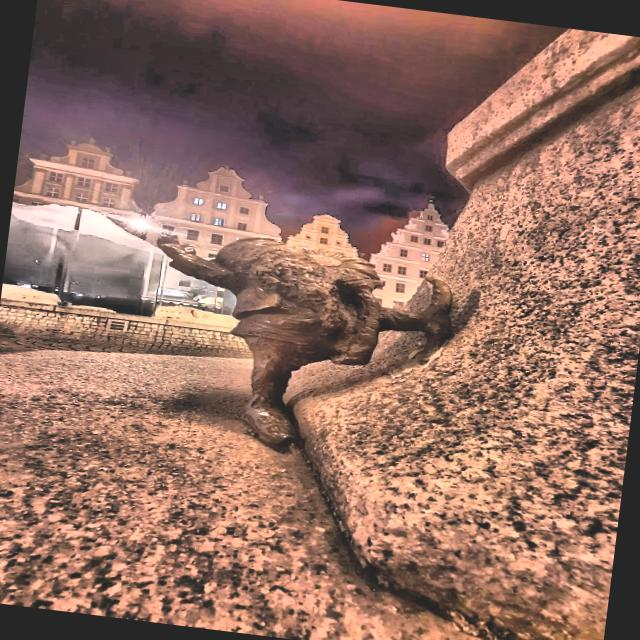Zyczliwek: (159, 236, 450, 445)
